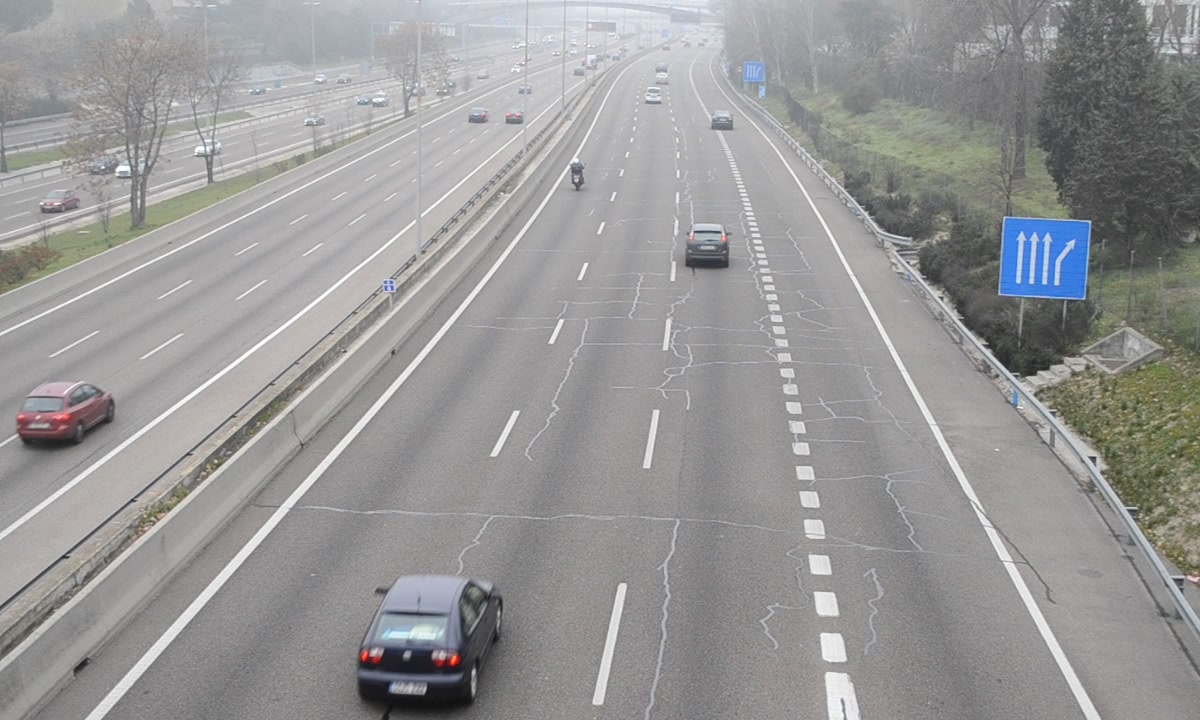car: (354, 573, 503, 707), (685, 223, 729, 270), (711, 111, 732, 131)
motorcycle: (568, 158, 586, 193)
